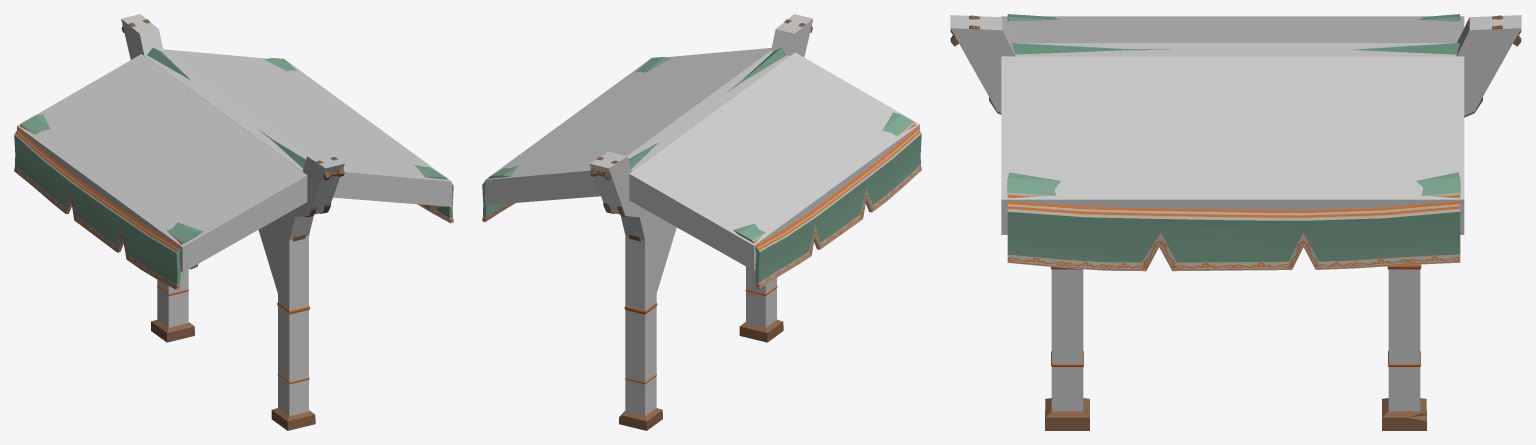
The model's file is SM_Prop_Tent_03.fbx.
The picture shows the model from 3 angles, left to right: view 1: azimuth 30°, elevation 25°; view 2: azimuth 150°, elevation 25°; view 3: azimuth 270°, elevation 25°; orthographic projection. The views are drawn at different scales.
Visible parts, largest first — view 1: SM_Prop_Tent_03_ConvexHulls, SM_Prop_Tent_03; view 2: SM_Prop_Tent_03_ConvexHulls, SM_Prop_Tent_03; view 3: SM_Prop_Tent_03_ConvexHulls, SM_Prop_Tent_03.
Boxes of the visible parts, left/top/right/bottom form: SM_Prop_Tent_03_ConvexHulls: left=17, top=14, right=451, bottom=415; SM_Prop_Tent_03: left=14, top=19, right=453, bottom=430; SM_Prop_Tent_03_ConvexHulls: left=485, top=14, right=919, bottom=415; SM_Prop_Tent_03: left=482, top=19, right=921, bottom=430; SM_Prop_Tent_03_ConvexHulls: left=950, top=15, right=1521, bottom=411; SM_Prop_Tent_03: left=950, top=14, right=1521, bottom=430.
Size of the model in its own units: 353 by 451 by 348.
2 materials, 1 textured.
